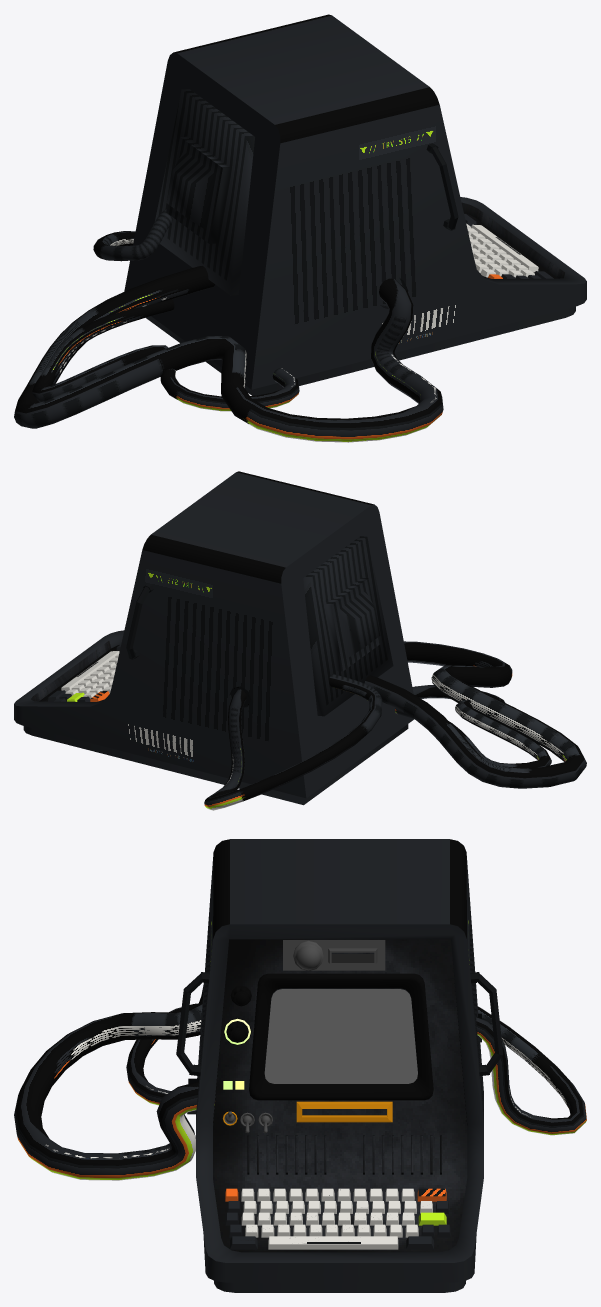
The model's file is trv01-source.glb.
3 views of the same model, one above another, from view 1: azimuth 30°, elevation 25°; view 2: azimuth 150°, elevation 25°; view 3: azimuth 270°, elevation 25° (orthographic). The views are drawn at different scales.
Parts seen in each view (by area): view 1: backplate, CORD, Cube.008, CORD2, keyboard, CORD2.001, backplate.001; view 2: backplate, CORD, Cube.008, CORD2.001, CORD2, keyboard, backplate.002; view 3: backplate, front-plate, screen.001, CORD, keyboard, Cube.007, CORD2.001, scanner.001, front-plate.001, Plane.009, CORD2, backplate.001 (+2 smaller).
Boxes of the visible parts, x1=… form: backplate: x1=124, y1=14, x2=586, y2=395; CORD: x1=14, y1=266, x2=443, y2=442; Cube.008: x1=155, y1=89, x2=254, y2=295; CORD2: x1=32, y1=299, x2=299, y2=411; keyboard: x1=464, y1=214, x2=553, y2=278; CORD2.001: x1=93, y1=209, x2=172, y2=261; backplate.001: x1=426, y1=143, x2=458, y2=230; backplate: x1=14, y1=471, x2=414, y2=805; CORD: x1=364, y1=641, x2=586, y2=788; Cube.008: x1=303, y1=536, x2=393, y2=716; CORD2.001: x1=204, y1=674, x2=382, y2=810; CORD2: x1=395, y1=685, x2=551, y2=768; keyboard: x1=48, y1=644, x2=121, y2=701; backplate.002: x1=126, y1=583, x2=153, y2=659; backplate: x1=196, y1=839, x2=483, y2=1292; front-plate: x1=213, y1=939, x2=467, y2=1252; screen.001: x1=264, y1=989, x2=417, y2=1083; CORD: x1=14, y1=983, x2=216, y2=1180; keyboard: x1=225, y1=1188, x2=450, y2=1249; Cube.007: x1=249, y1=973, x2=433, y2=1100; CORD2.001: x1=476, y1=1006, x2=586, y2=1135; scanner.001: x1=283, y1=940, x2=385, y2=970; front-plate.001: x1=247, y1=1135, x2=441, y2=1174; Plane.009: x1=296, y1=1101, x2=392, y2=1122; CORD2: x1=126, y1=1003, x2=218, y2=1105; backplate.001: x1=176, y1=972, x2=209, y2=1076.
Size of the model in its own units: 3.16 by 1.4 by 2.51.
10 materials, 3 textured.
